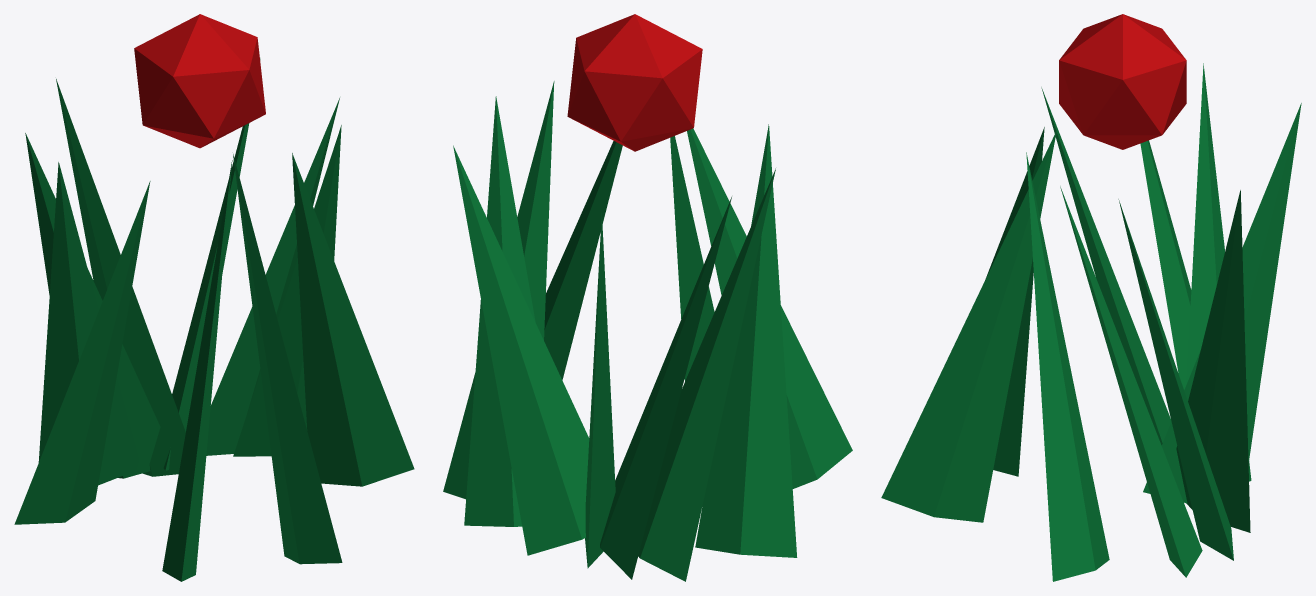
Rendered from Prop_OR_Herb_28.glb.
3 renders of one model, left to right at view 1: azimuth 30°, elevation 25°; view 2: azimuth 150°, elevation 25°; view 3: azimuth 270°, elevation 25°, orthographic. The views are drawn at different scales.
Parts seen in each view (by area): view 1: Prop_OR_Herb_28; view 2: Prop_OR_Herb_28; view 3: Prop_OR_Herb_28.
Boxes of the visible parts, x1,y1,x2,y2 form: Prop_OR_Herb_28: [14, 14, 414, 581]; Prop_OR_Herb_28: [443, 14, 852, 581]; Prop_OR_Herb_28: [881, 14, 1301, 581].
Bounding box in the file's own units: 0.4887 × 0.6576 × 0.5.
